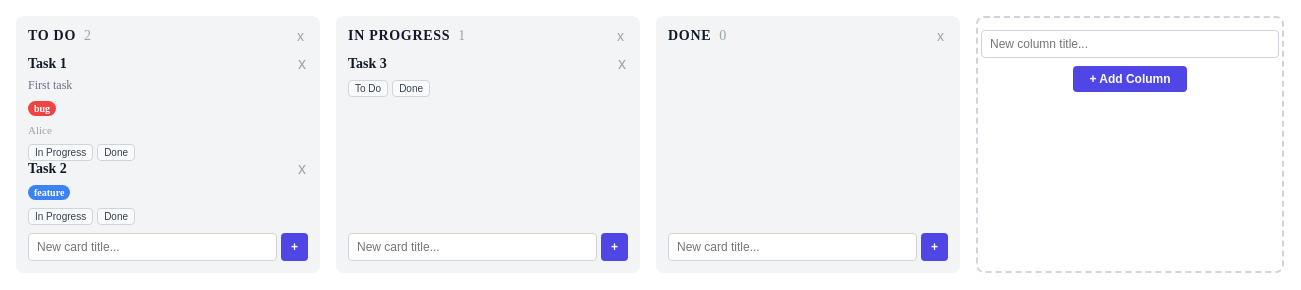
Test case: KanbanBoard › moves a card via accessible move button
# Task 1 is in "To Do", move it to "Done"
Click the button with aria-label "Move to Done". click: (116, 152)
box: left=97, top=144, right=135, bottom=161
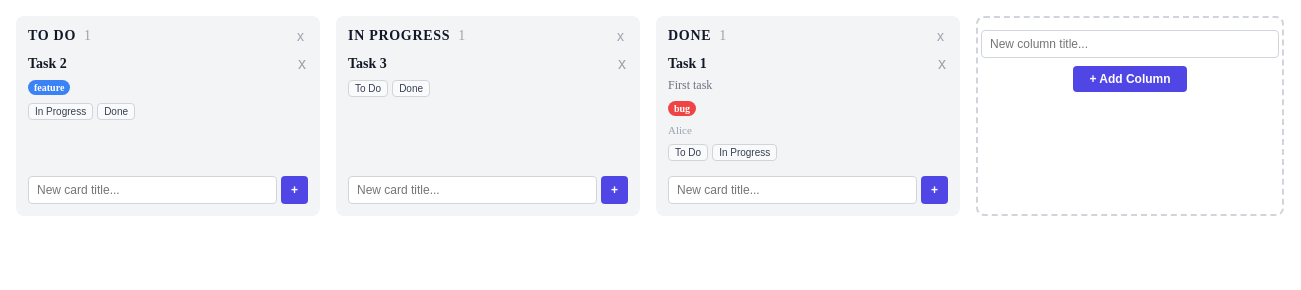
Expected: the list named "Column: Done" shows "Task 1", left=668, top=56, right=707, bottom=71
